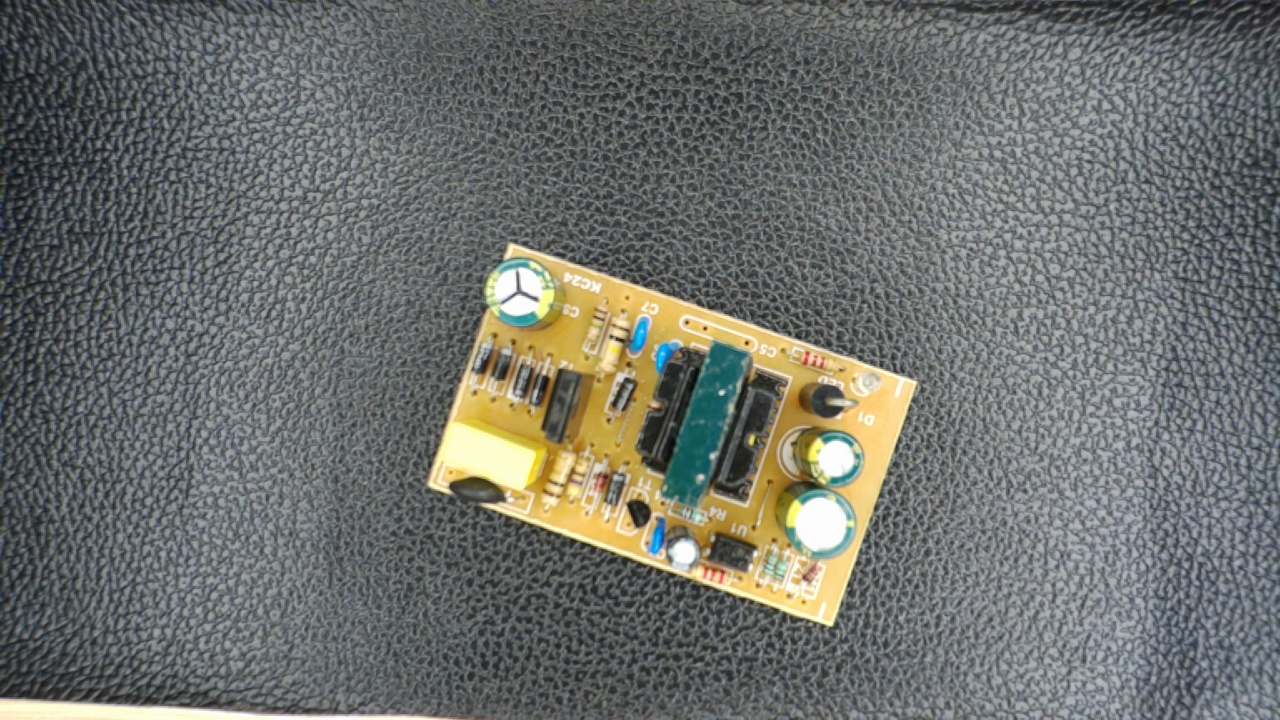fuse: (440, 473, 522, 510)
hv_capacitor: (480, 255, 569, 332)
optocoupler: (701, 527, 767, 575)
